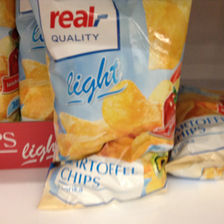chips: (32, 1, 194, 209)
